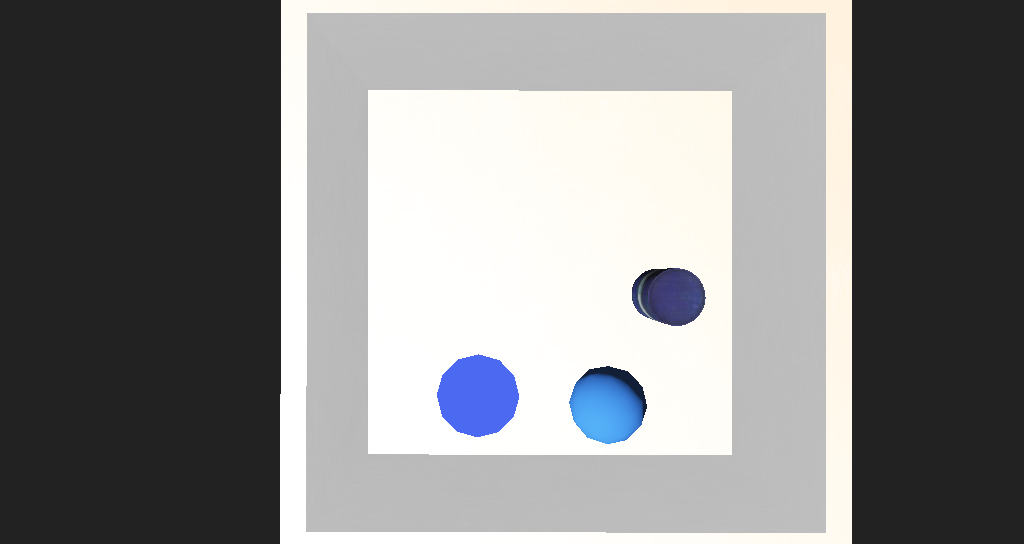cone: (573, 270, 627, 303)
cylinder: (411, 313, 478, 365)
sphere: (522, 320, 583, 367)
